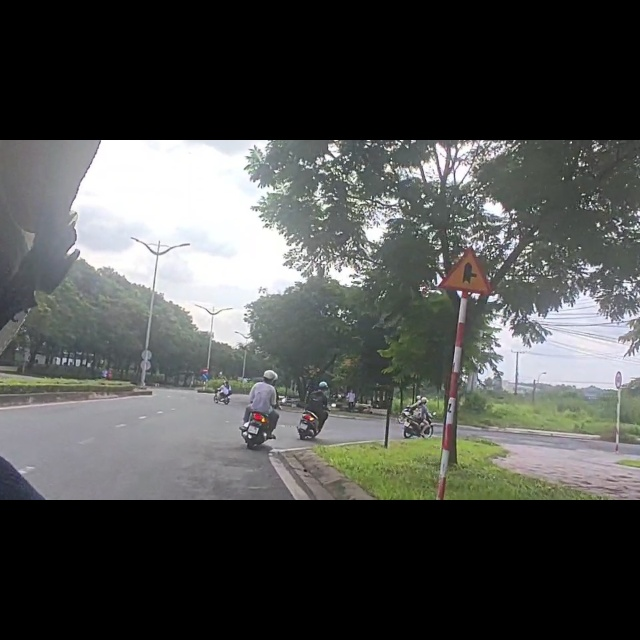Giao nhau với đường không ưu tiên: (439, 246, 493, 295)
